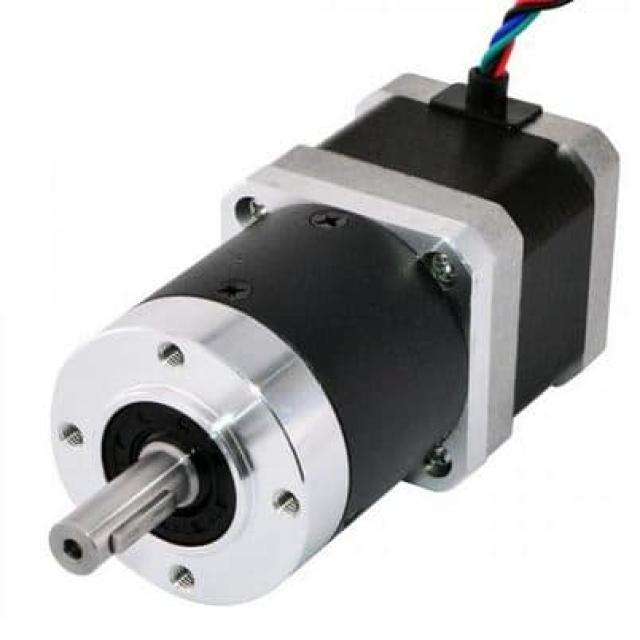motor: (56, 58, 624, 616)
